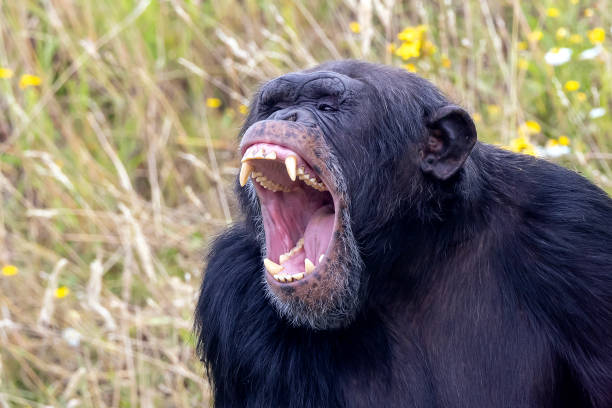chimpanzee: (220, 52, 482, 337)
